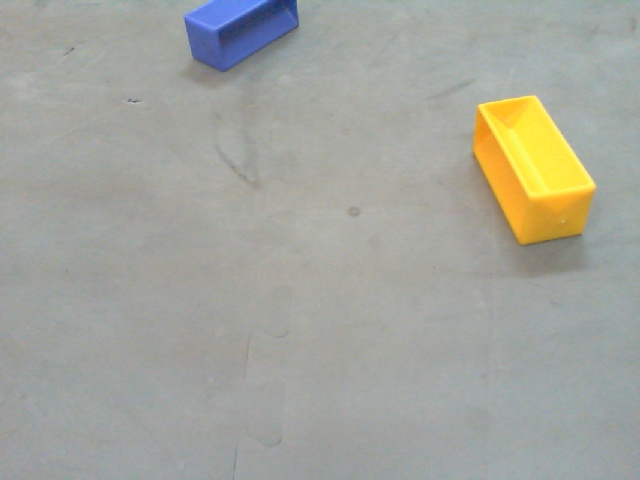BlueSample: (183, 1, 300, 73)
YellowSample: (472, 93, 595, 252)
